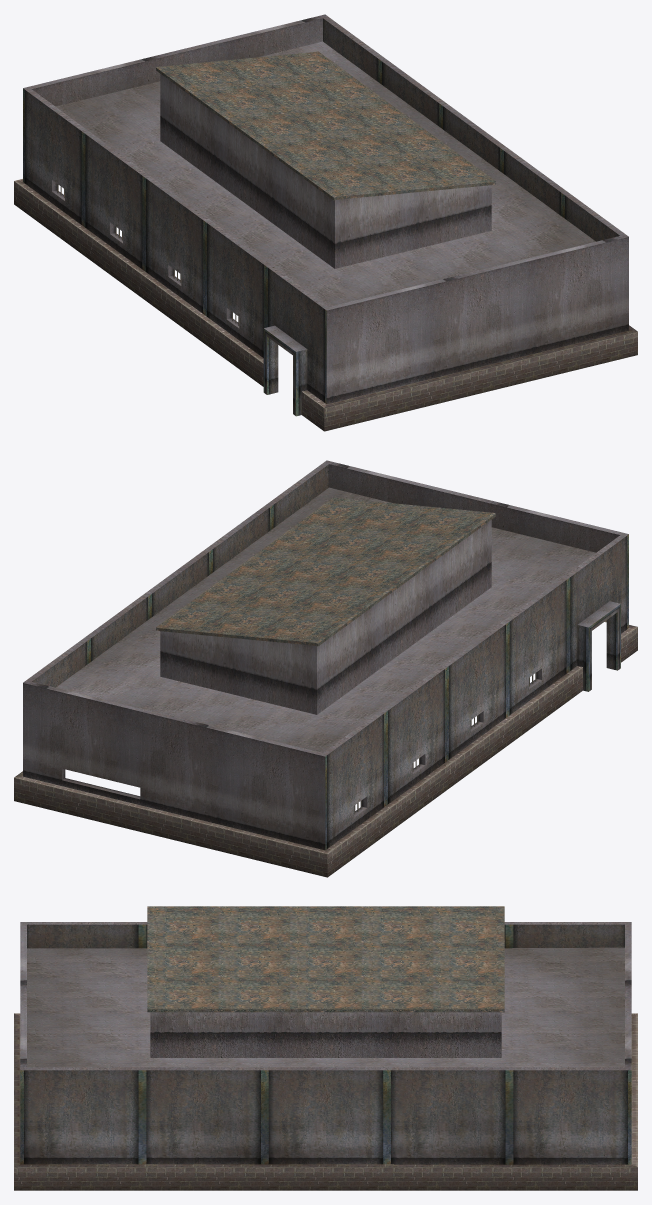
Rendered from M10_Z02Base_21_Cells.glb.
3 views of the same model, one above another, from view 1: azimuth 30°, elevation 25°; view 2: azimuth 150°, elevation 25°; view 3: azimuth 270°, elevation 25° (orthographic).
Visible parts, largest first — view 1: M10_Z02BASE_21_CELLS; view 2: M10_Z02BASE_21_CELLS; view 3: M10_Z02BASE_21_CELLS.
Part boxes in pixels (<box>): M10_Z02BASE_21_CELLS: <box>14,14,637,431</box>; M10_Z02BASE_21_CELLS: <box>14,460,637,877</box>; M10_Z02BASE_21_CELLS: <box>14,906,637,1190</box>.
Bounding box in the file's own units: 14.25 × 7.13 × 24.
Materials: 5 (5 with a texture image).
